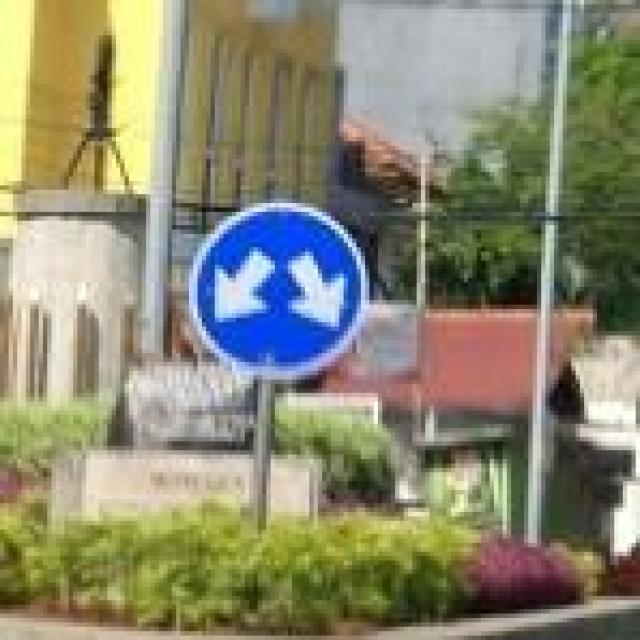traffic sign: (189, 199, 365, 380)
